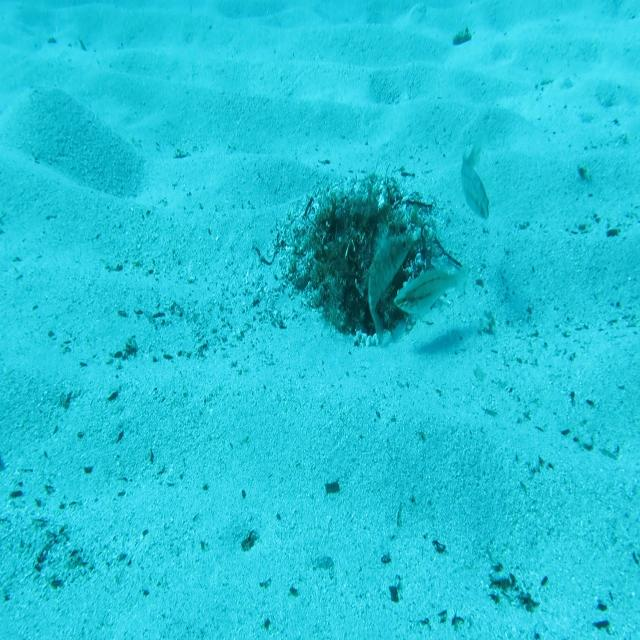LF: (366, 228, 414, 349)
core_nest: (348, 203, 397, 247)
female: (394, 258, 473, 320), (460, 130, 491, 222)
nest: (270, 172, 456, 355)
vegetation: (450, 27, 473, 48), (239, 526, 258, 551), (321, 477, 343, 497)
